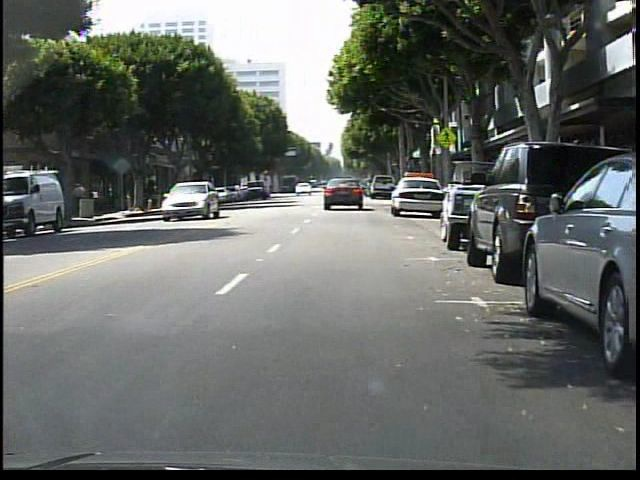person: (74, 179, 92, 221)
